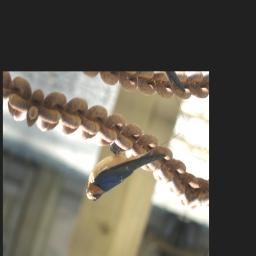Swallow: (82, 102, 184, 227)
